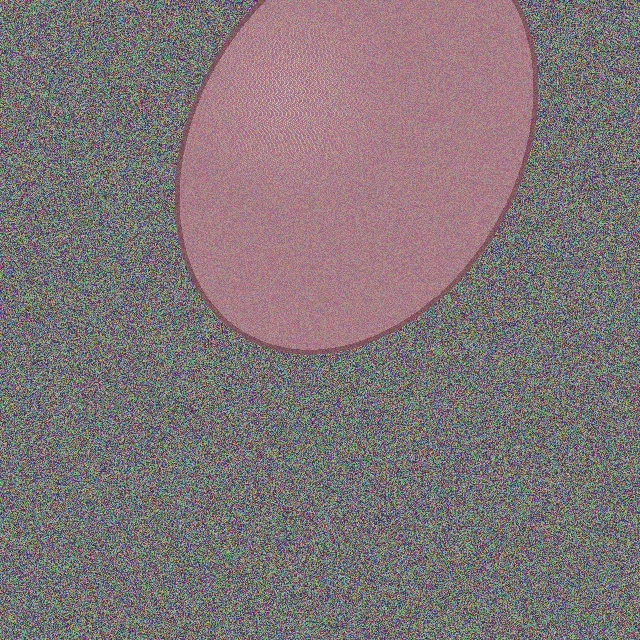lens: (178, 0, 534, 350)
